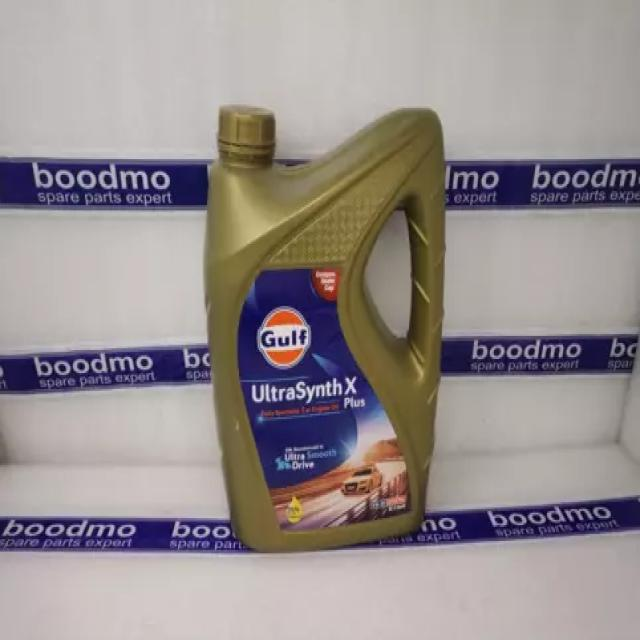motor_oil: (208, 93, 448, 544)
